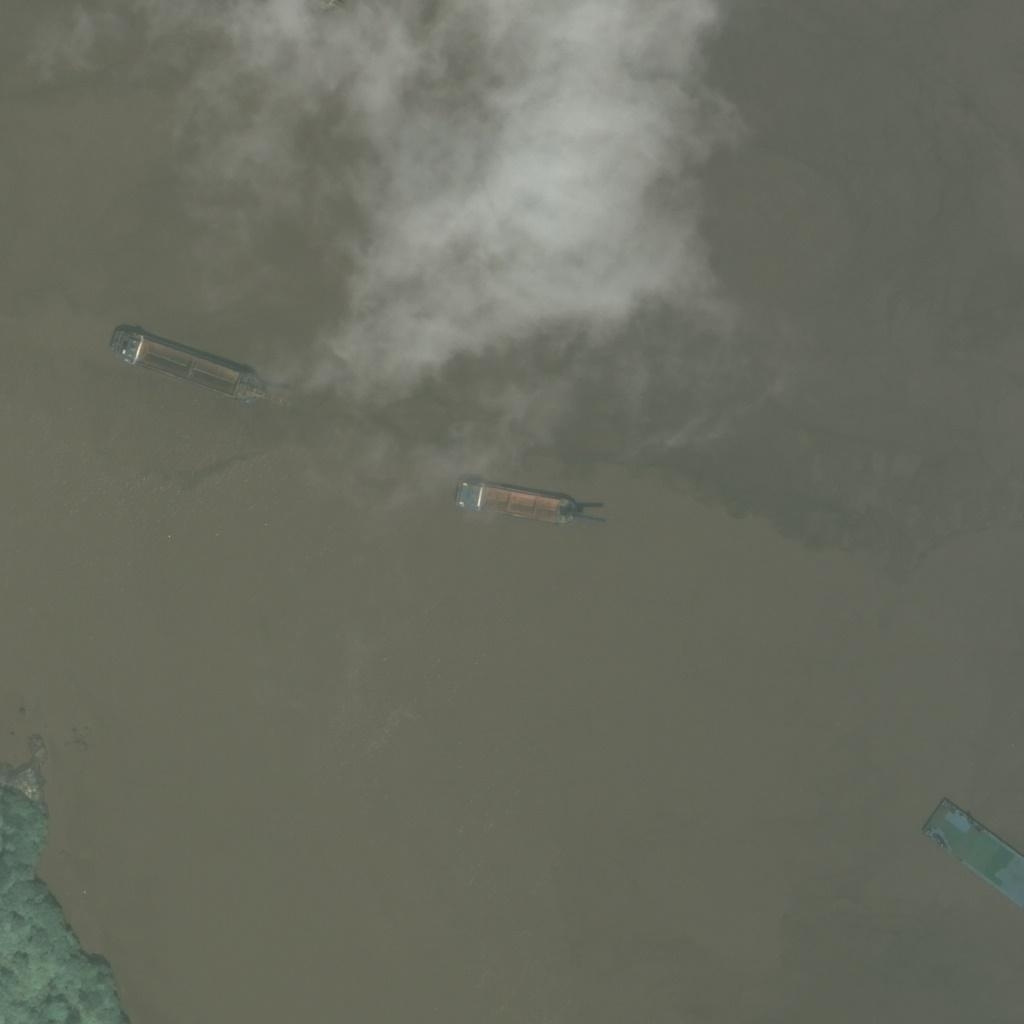ship: (111, 325, 271, 415), (456, 472, 582, 526)
